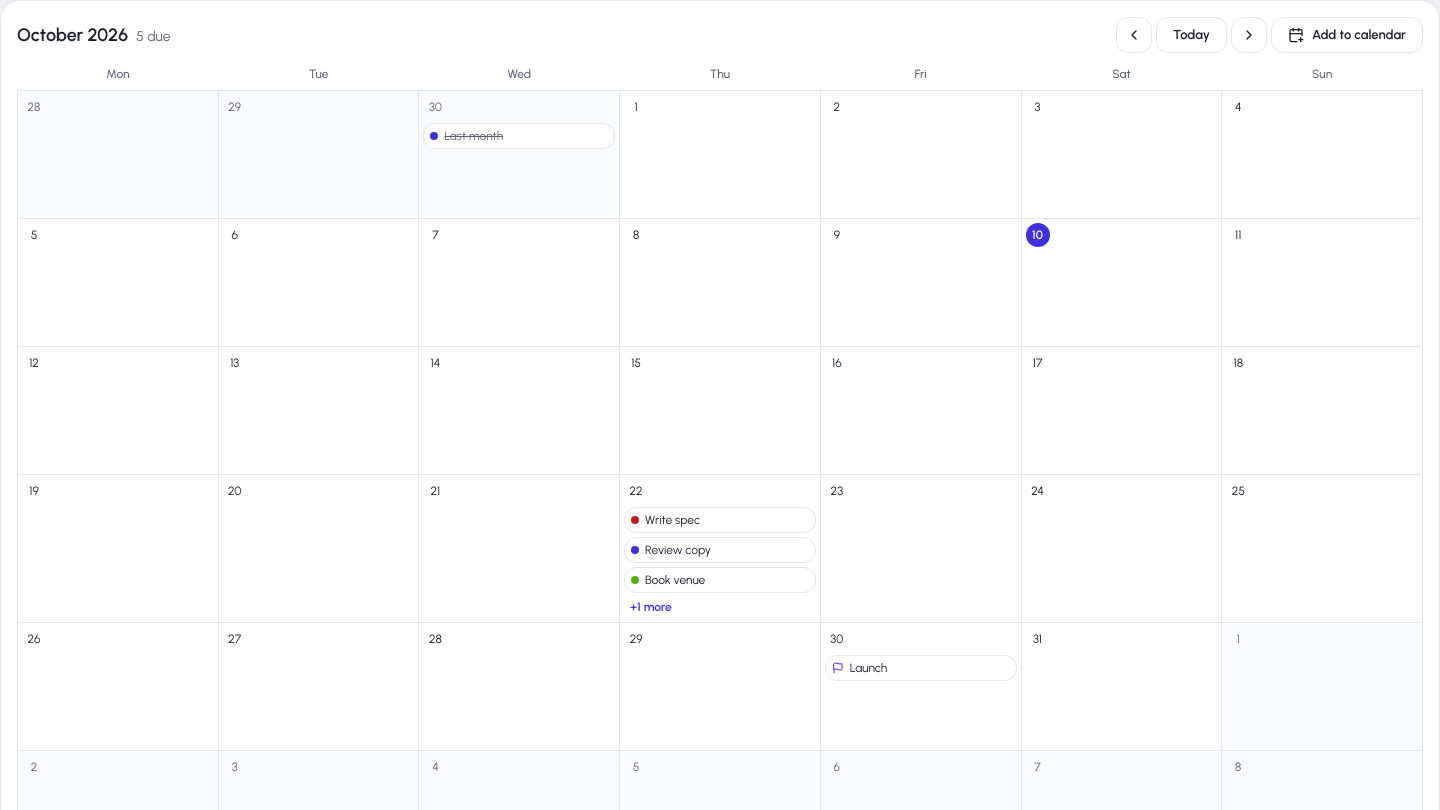
Test case: TaskCalendar › moves between months and back to today
The width and height of the screenshot is (1440, 810).
Click the button named "Previous month" at (1134, 35), box [1116,17,1152,53]
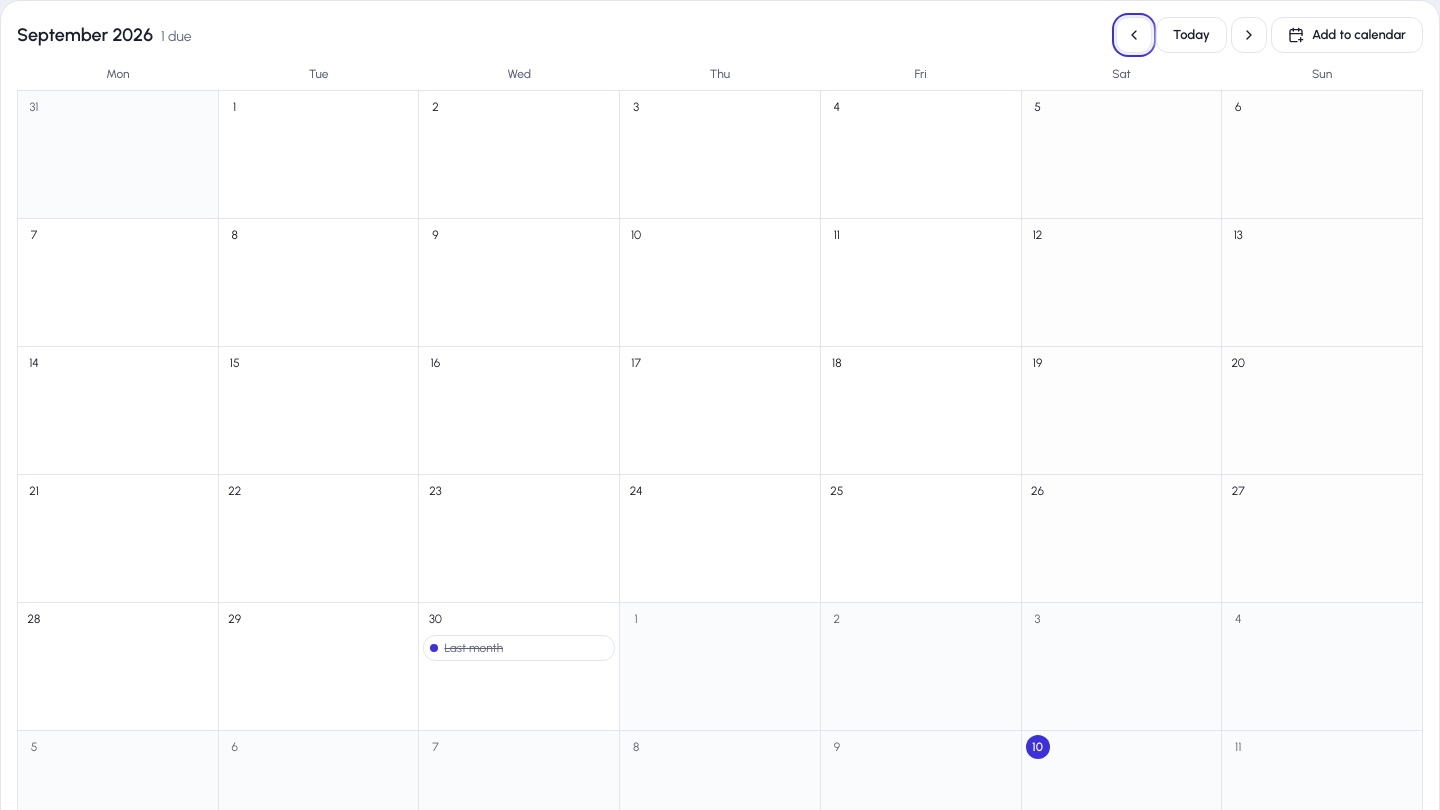
Expected: the button "Last month" is shown, [423,635,615,661]
Expected: the heading shows "September 2026", [17,24,153,46]
Click the button named "Next month" at (1249, 35), box [1231,17,1267,53]
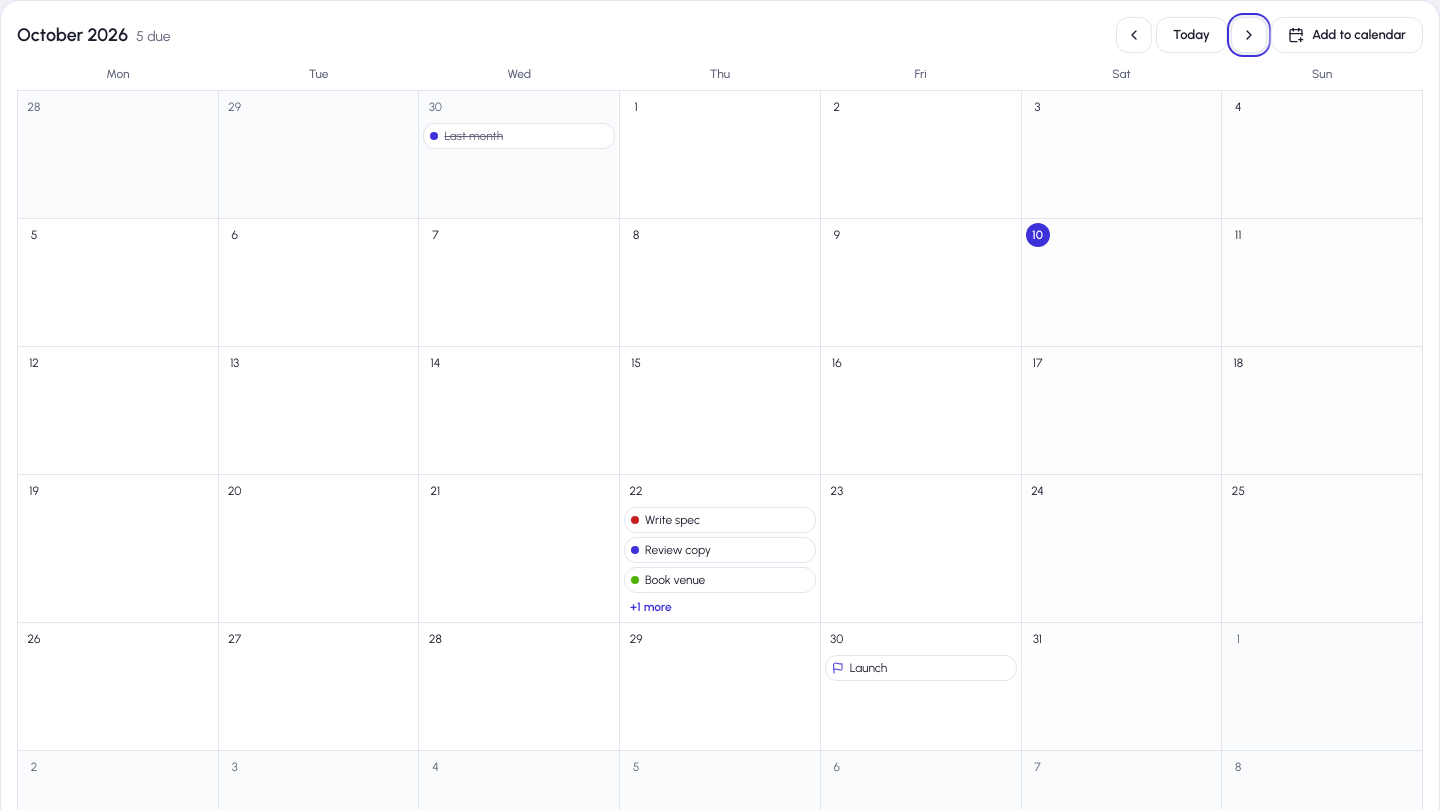
Click the button named "Next month" at (1249, 35), box [1231,17,1267,53]
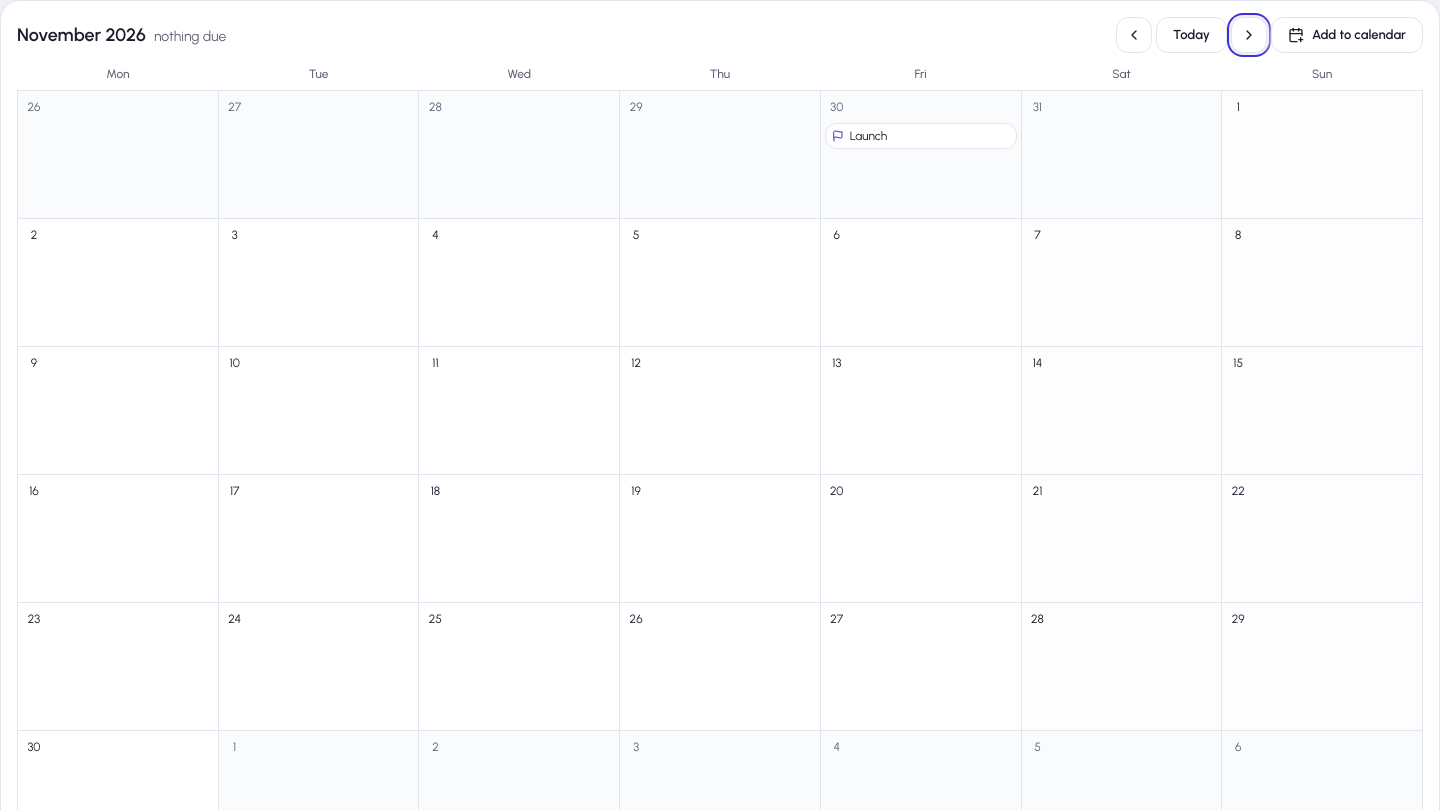
Expected: the heading shows "November 2026", [17,24,146,46]
Click the button "Today" at (1191, 35), box [1156,17,1227,53]
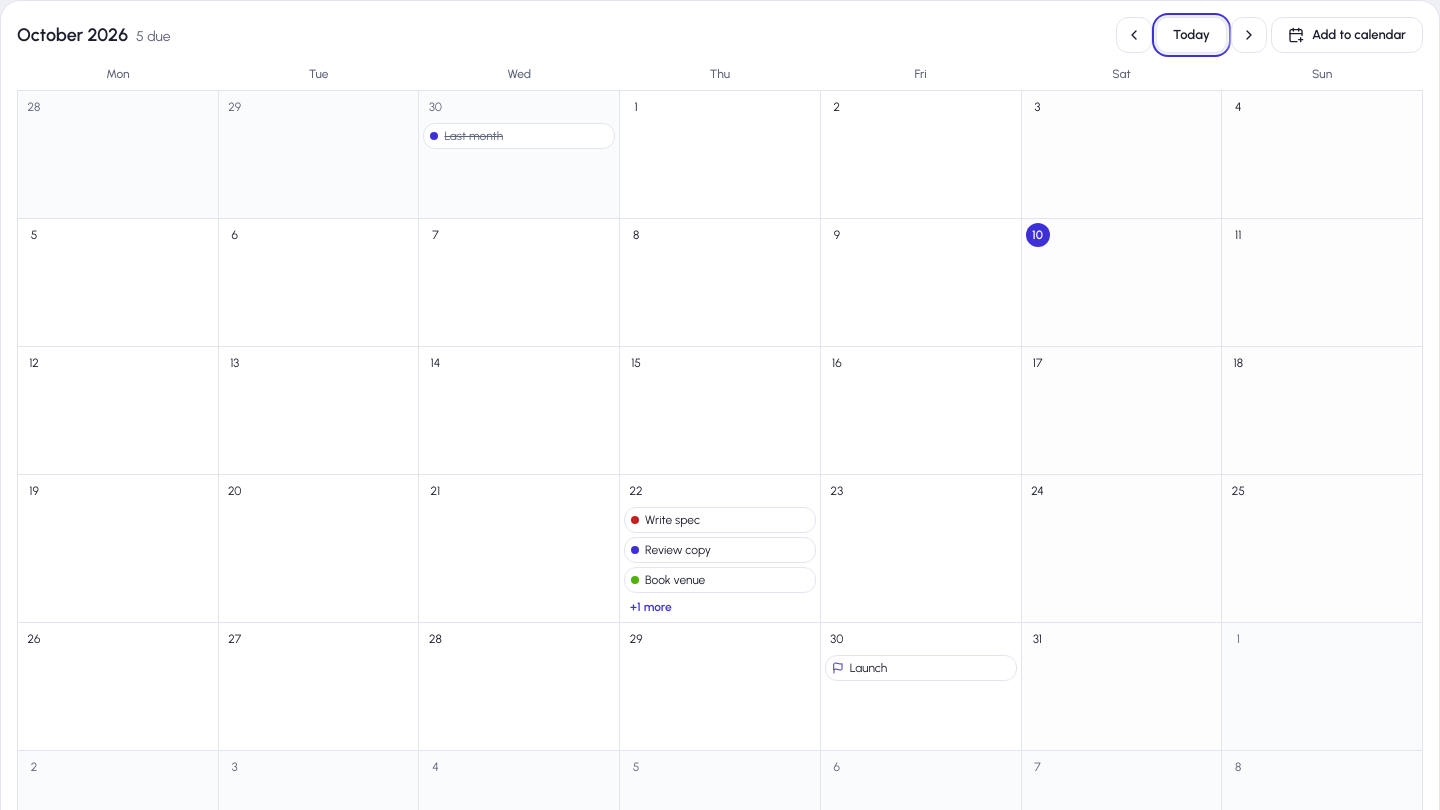
Expected: the heading shows "October 2026", [17,24,128,46]
